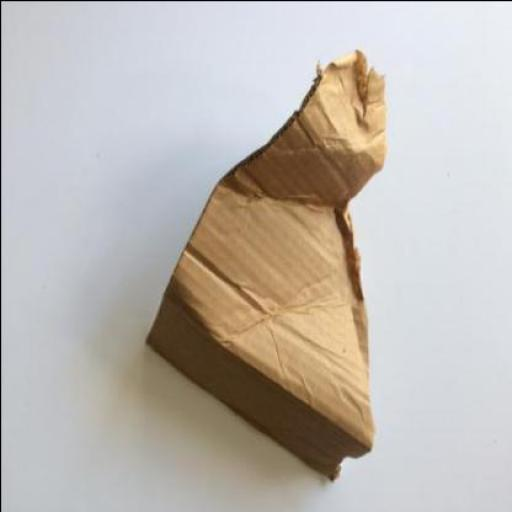cardboard: (144, 47, 386, 481)
